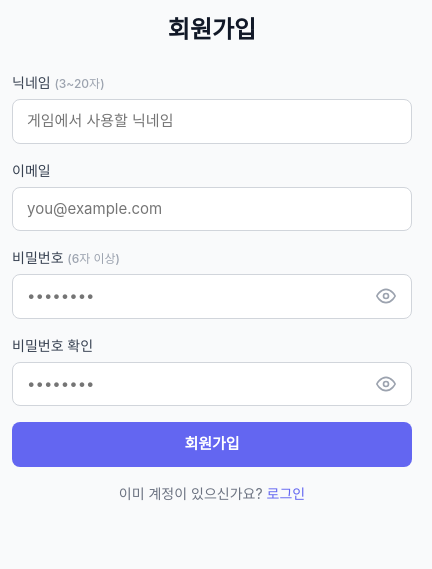
Test case: SignupForm API error localization › 이미 가입된 이메일 에러를 한국어로 표시한다
The width and height of the screenshot is (432, 569).
Type "testuser" into the field labelled "닉네임 (3~20자)". click: (212,121)
box: [12, 99, 412, 144]
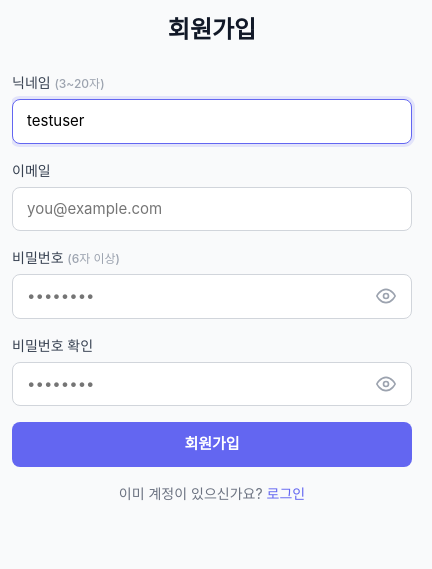
Type "test@example.com" into the field labelled "이메일". click: (212,209)
box: [12, 186, 412, 231]
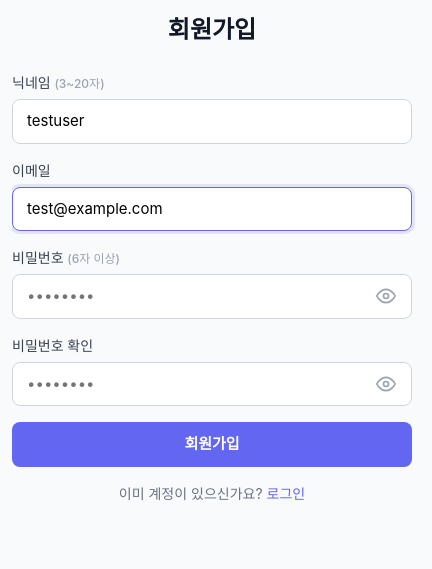
Type "pass123" into the password field labelled "비밀번호 (6자 이상)". click: (212,296)
box: [12, 274, 412, 318]
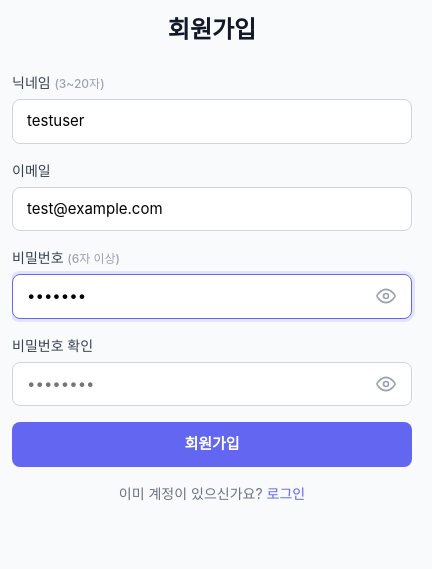
Type "pass123" into the password field labelled "비밀번호 확인". click: (212,384)
box: [12, 362, 412, 406]
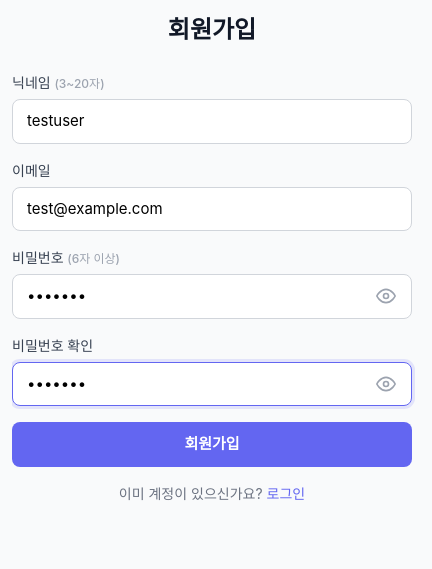
Click the button "회원가입". click: (212,444)
box: [12, 422, 412, 466]
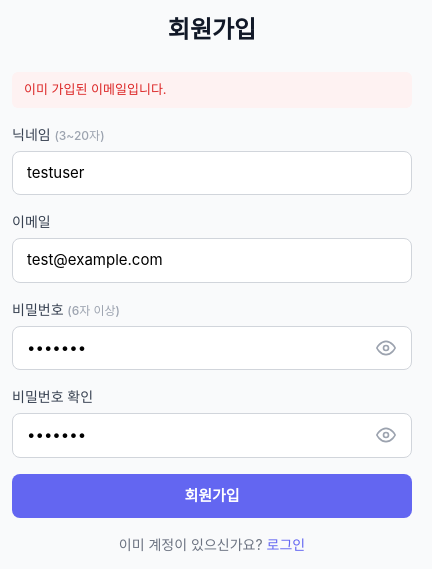
Result: the text "이미 가입된 이메일입니다." is shown at [12, 72, 412, 108]
